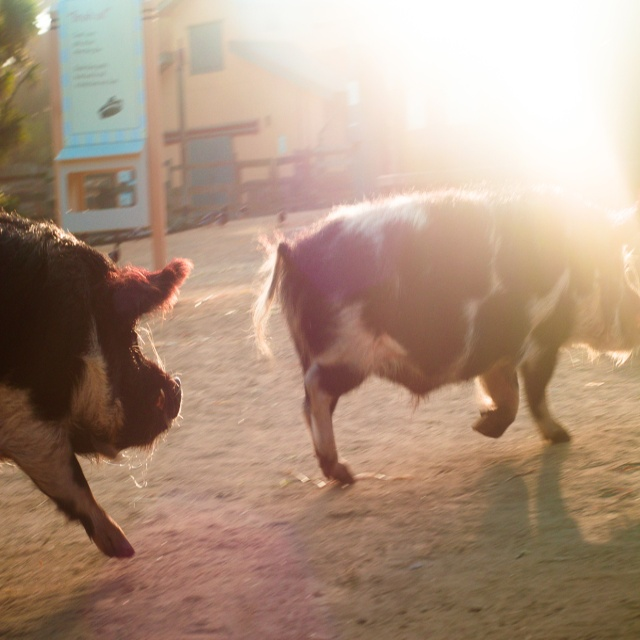Pig: (248, 187, 640, 483), (0, 210, 193, 555)
